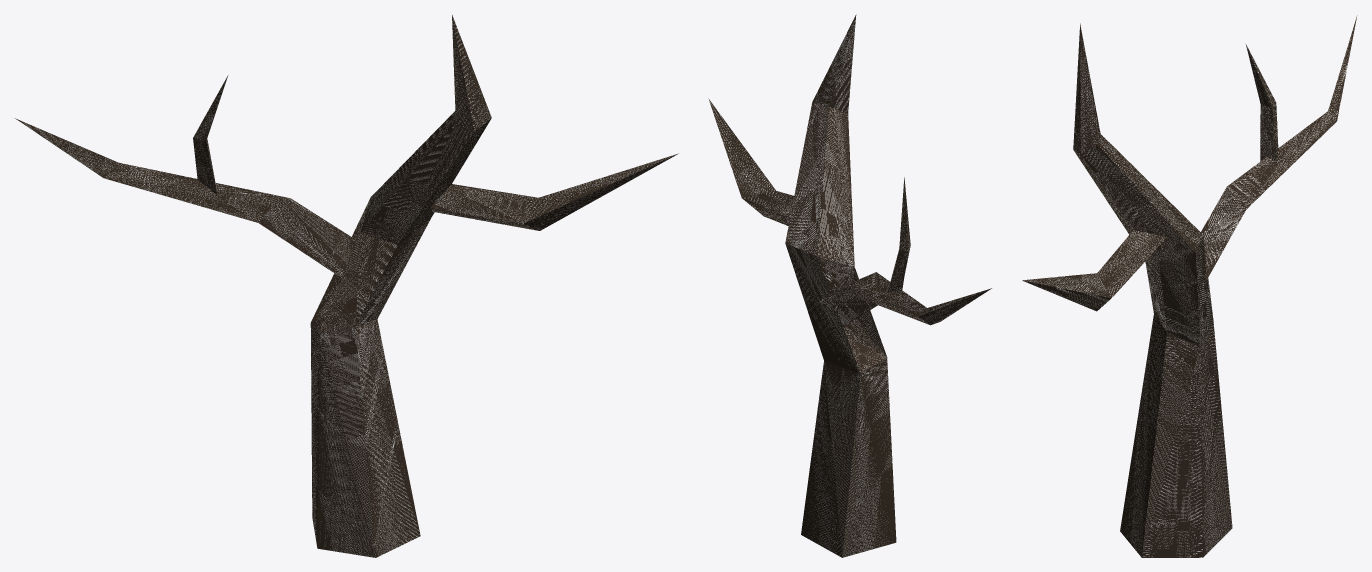
The model's file is Graveyard_Tree_Dead_Small_02.fbx.
3 views of the same model, side by side, from view 1: azimuth 30°, elevation 25°; view 2: azimuth 150°, elevation 25°; view 3: azimuth 270°, elevation 25° (orthographic). The views are drawn at different scales.
Parts seen in each view (by area): view 1: Model; view 2: Model; view 3: Model.
Part boxes in pixels (box(x1,y1,x2,y2)): Model: box(15, 15, 678, 557); Model: box(708, 14, 991, 557); Model: box(1022, 15, 1357, 557).
Size of the model in its own units: 676 by 713 by 406.
